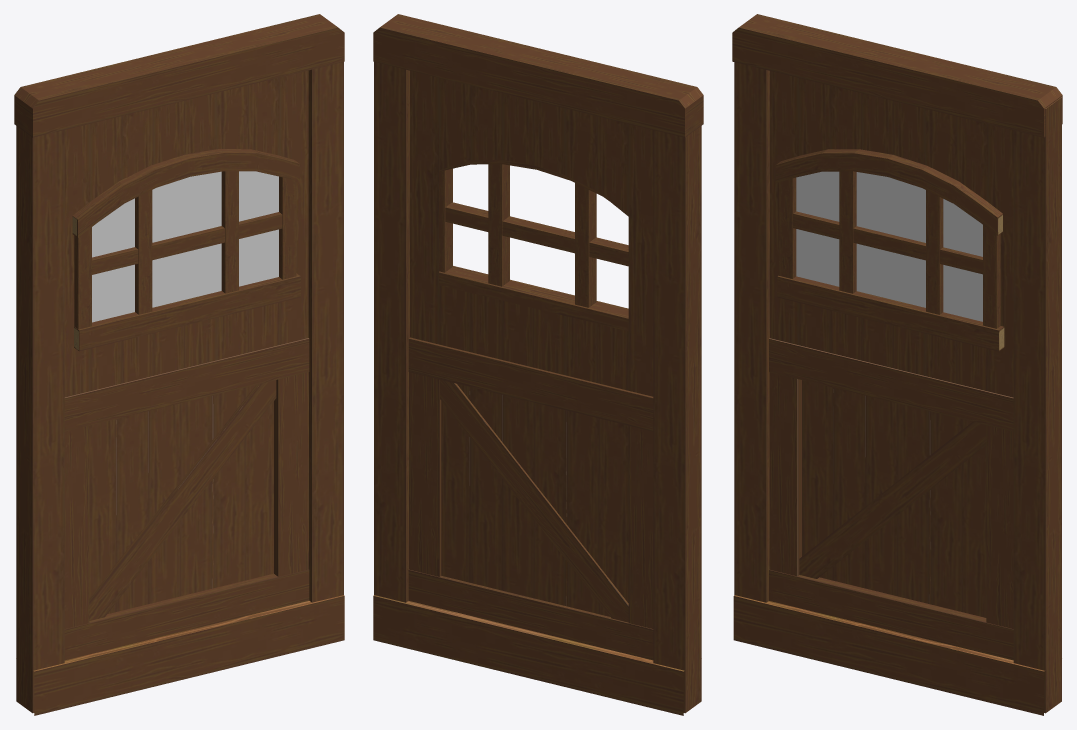
Rendered from door-1-flat.glb.
The picture shows the model from 3 angles, left to right: view 1: azimuth 30°, elevation 25°; view 2: azimuth 150°, elevation 25°; view 3: azimuth 330°, elevation 25°; orthographic projection.
Parts seen in each view (by area): view 1: Door_1_Flat; view 2: Door_1_Flat; view 3: Door_1_Flat.
Part boxes in pixels (<box>): Door_1_Flat: <box>14,14,344,715</box>; Door_1_Flat: <box>373,14,703,715</box>; Door_1_Flat: <box>732,14,1062,715</box>.
Size of the model in its own units: 1.12 by 2.1 by 0.1207.
Materials: 2 (1 with a texture image).
